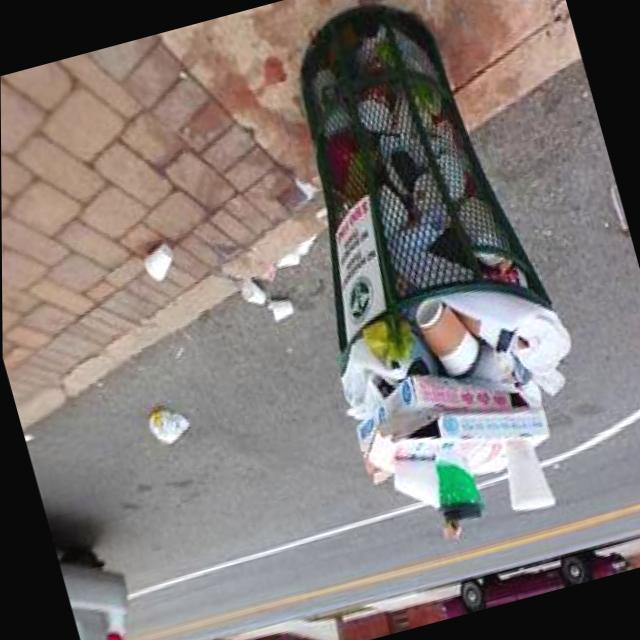Garbage: (340, 289, 569, 538)
Plastic_bottle: (435, 463, 482, 518)
